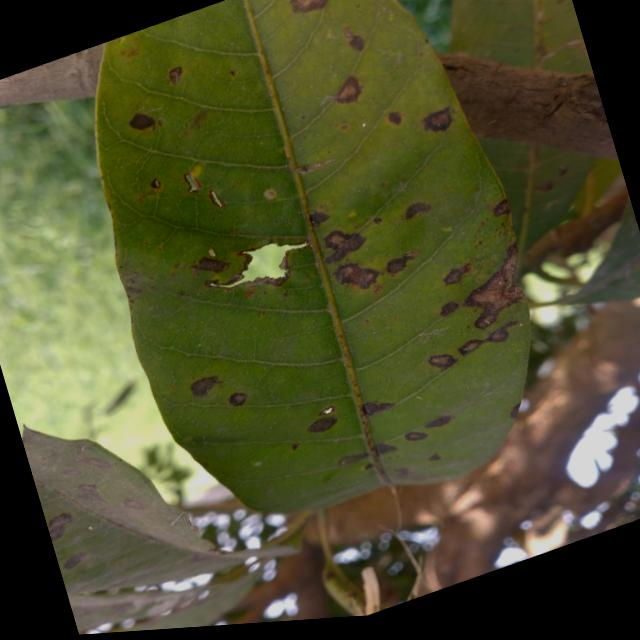Anthracnose: (457, 241, 547, 337), (457, 316, 525, 360), (335, 67, 381, 114), (331, 257, 381, 292), (183, 359, 223, 402), (324, 229, 367, 263), (420, 104, 459, 138), (41, 506, 76, 543), (484, 316, 523, 349), (179, 105, 212, 142), (441, 256, 475, 290), (383, 249, 423, 277), (188, 370, 224, 400), (305, 411, 340, 438), (338, 25, 369, 53), (294, 156, 336, 176), (75, 452, 116, 471), (362, 395, 397, 416), (128, 110, 158, 134), (428, 351, 460, 373), (192, 255, 229, 274), (60, 548, 90, 571), (424, 411, 455, 433), (402, 199, 434, 220), (337, 448, 370, 468), (457, 333, 484, 357), (436, 296, 462, 319), (204, 187, 228, 211), (183, 168, 205, 194), (76, 482, 106, 501), (307, 205, 331, 228), (490, 198, 512, 219), (290, 0, 328, 12), (374, 438, 399, 455), (533, 178, 556, 196), (228, 388, 248, 408), (121, 495, 146, 511), (316, 401, 338, 419), (166, 63, 184, 85), (385, 107, 405, 126), (507, 400, 526, 420), (405, 427, 430, 442), (148, 175, 166, 192), (556, 162, 571, 178), (263, 187, 277, 199), (428, 452, 442, 462), (290, 440, 301, 451), (363, 461, 375, 470), (229, 68, 237, 76), (373, 217, 382, 224)
